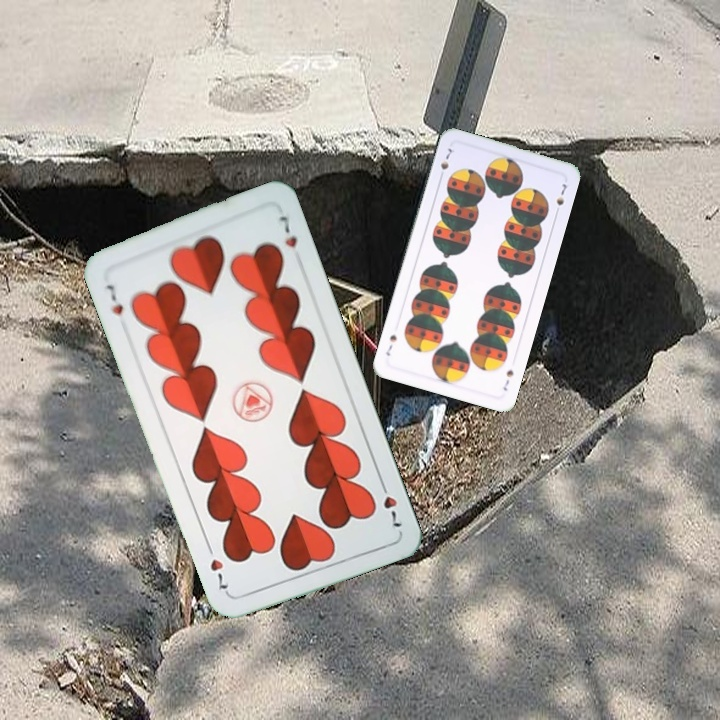H7: (375, 475, 405, 530), (102, 280, 126, 317)
S7: (435, 144, 455, 182), (499, 366, 516, 393)
